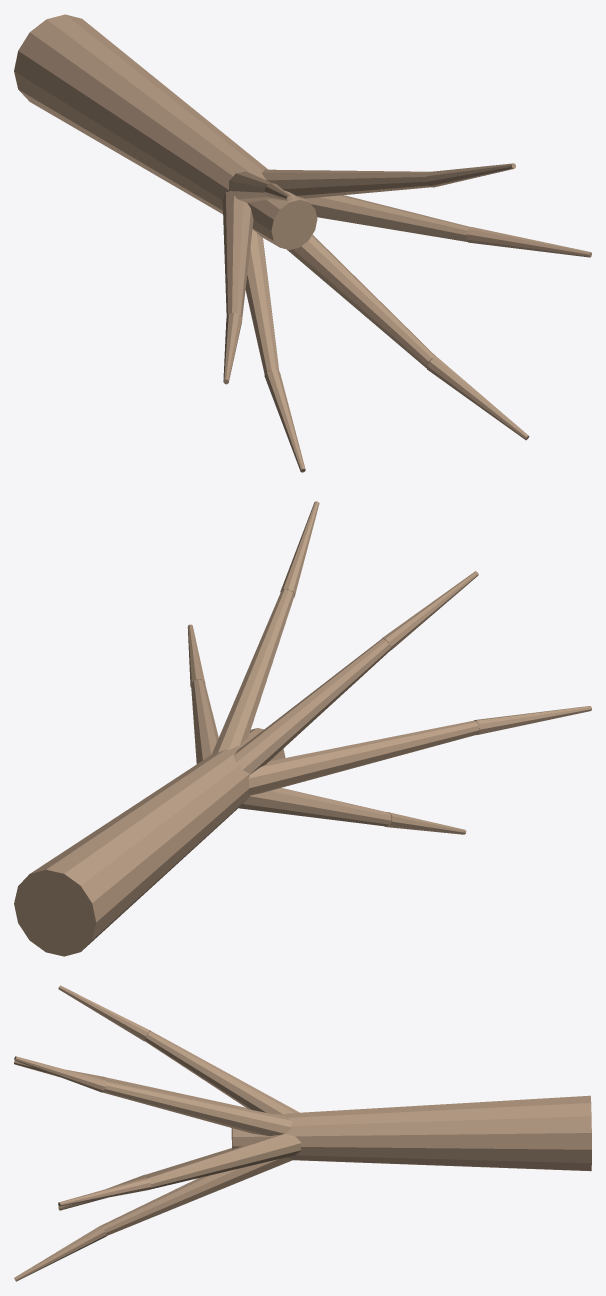
File: bare_tree.glb
The picture shows the model from 3 angles, top to bottom: view 1: azimuth 30°, elevation 25°; view 2: azimuth 150°, elevation 25°; view 3: azimuth 270°, elevation 25°; orthographic projection. The views are drawn at different scales.
Parts seen in each view (by area): view 1: bare_tree_000, bare_tree_011, bare_tree_003, bare_tree_001, bare_tree_007, bare_tree_009, bare_tree_002, bare_tree_012, bare_tree_010, bare_tree_004, bare_tree_005, bare_tree_008; view 2: bare_tree_000, bare_tree_007, bare_tree_005, bare_tree_003, bare_tree_009, bare_tree_001, bare_tree_008, bare_tree_006, bare_tree_004, bare_tree_010, bare_tree_002; view 3: bare_tree_000, bare_tree_003, bare_tree_001, bare_tree_011, bare_tree_005, bare_tree_012, bare_tree_006, bare_tree_004, bare_tree_002, bare_tree_007.
Part boxes in pixels (<box>): bare_tree_000: <box>14,14,317,249</box>; bare_tree_011: <box>287,234,436,368</box>; bare_tree_003: <box>261,169,431,198</box>; bare_tree_001: <box>305,195,469,241</box>; bare_tree_007: <box>222,191,253,317</box>; bare_tree_009: <box>245,229,279,374</box>; bare_tree_002: <box>466,227,591,257</box>; bare_tree_012: <box>427,356,529,440</box>; bare_tree_010: <box>264,369,305,472</box>; bare_tree_004: <box>426,163,515,187</box>; bare_tree_005: <box>229,171,272,202</box>; bare_tree_008: <box>223,312,242,384</box>; bare_tree_000: <box>14,728,285,956</box>; bare_tree_007: <box>248,720,479,795</box>; bare_tree_005: <box>233,638,391,774</box>; bare_tree_003: <box>211,589,294,754</box>; bare_tree_009: <box>238,788,391,826</box>; bare_tree_001: <box>191,679,218,763</box>; bare_tree_008: <box>474,706,591,734</box>; bare_tree_006: <box>382,571,478,649</box>; bare_tree_004: <box>280,501,319,597</box>; bare_tree_010: <box>384,812,466,834</box>; bare_tree_002: <box>187,624,205,687</box>; bare_tree_000: <box>231,1095,591,1171</box>; bare_tree_003: <box>102,1081,292,1136</box>; bare_tree_001: <box>147,1134,301,1189</box>; bare_tree_011: <box>101,1157,292,1235</box>; bare_tree_005: <box>144,1031,299,1114</box>; bare_tree_012: <box>14,1225,106,1281</box>; bare_tree_006: <box>58,985,150,1041</box>; bare_tree_004: <box>14,1056,106,1092</box>; bare_tree_002: <box>58,1177,150,1206</box>; bare_tree_007: <box>102,1077,247,1108</box>.
Size of the model in its own units: 1.96 by 1.34 by 3.14.
